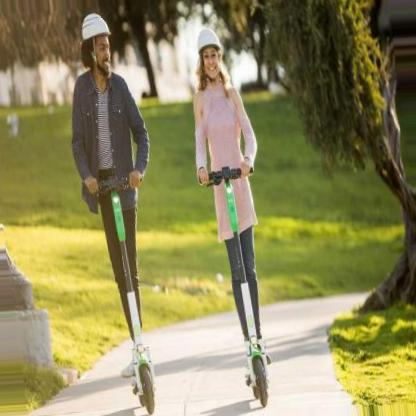scooter: (81, 172, 157, 416), (198, 164, 270, 409)
with helmet: (80, 13, 113, 76), (196, 28, 225, 79)
